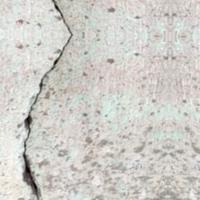crack: (13, 0, 88, 199)
